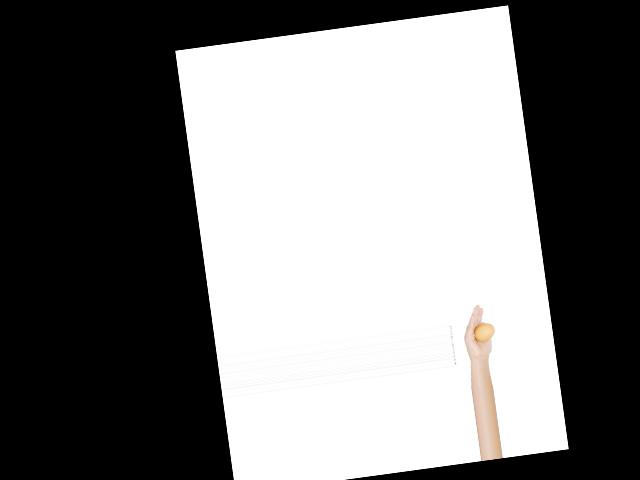egg: (472, 321, 495, 342)
